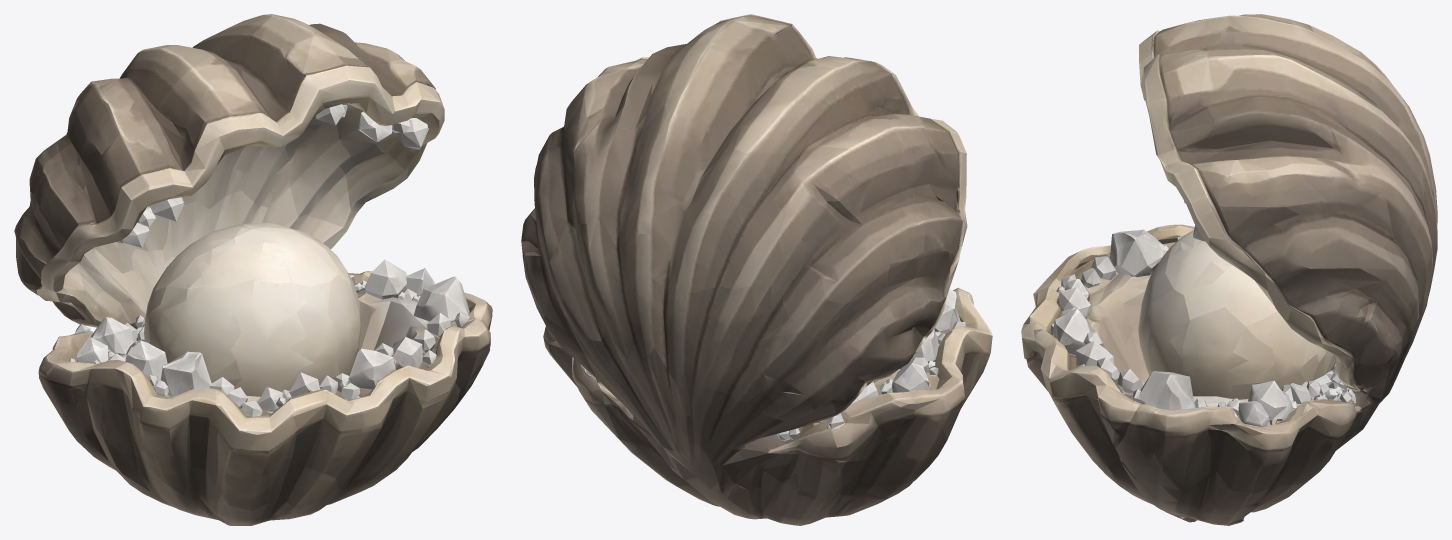
Rendered from mat_saltpearl.glb.
3 views of the same model, side by side, from view 1: azimuth 30°, elevation 25°; view 2: azimuth 150°, elevation 25°; view 3: azimuth 270°, elevation 25° (orthographic).
Visible parts, largest first — view 1: output_unwrapped; view 2: output_unwrapped; view 3: output_unwrapped.
Part boxes in pixels (<box>): output_unwrapped: <box>14,14,492,525</box>; output_unwrapped: <box>521,14,992,525</box>; output_unwrapped: <box>1021,14,1437,525</box>.
Size of the model in its own units: 1.74 by 1.9 by 1.56.
1 material, 1 textured.
